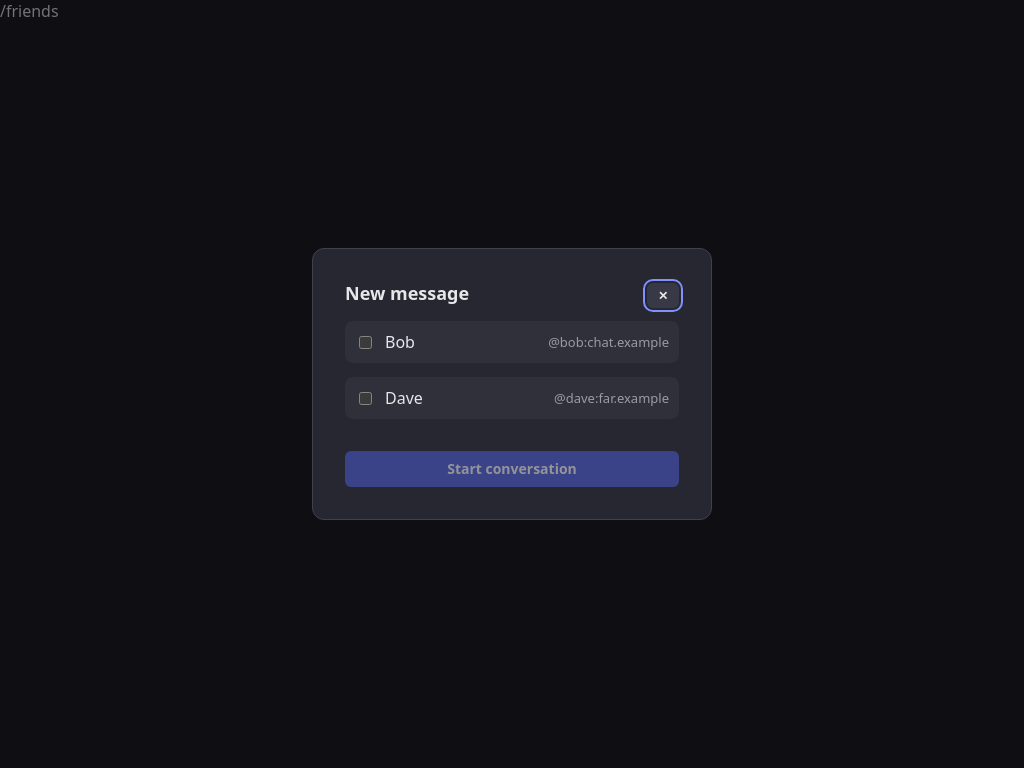
Test case: NewConversationModal on a private server › says plainly when someone added does not accept conversations from you
Click the checkbox labelled "Bob @bob:chat.example": (366, 342) x1=359 y1=336 x2=372 y2=349
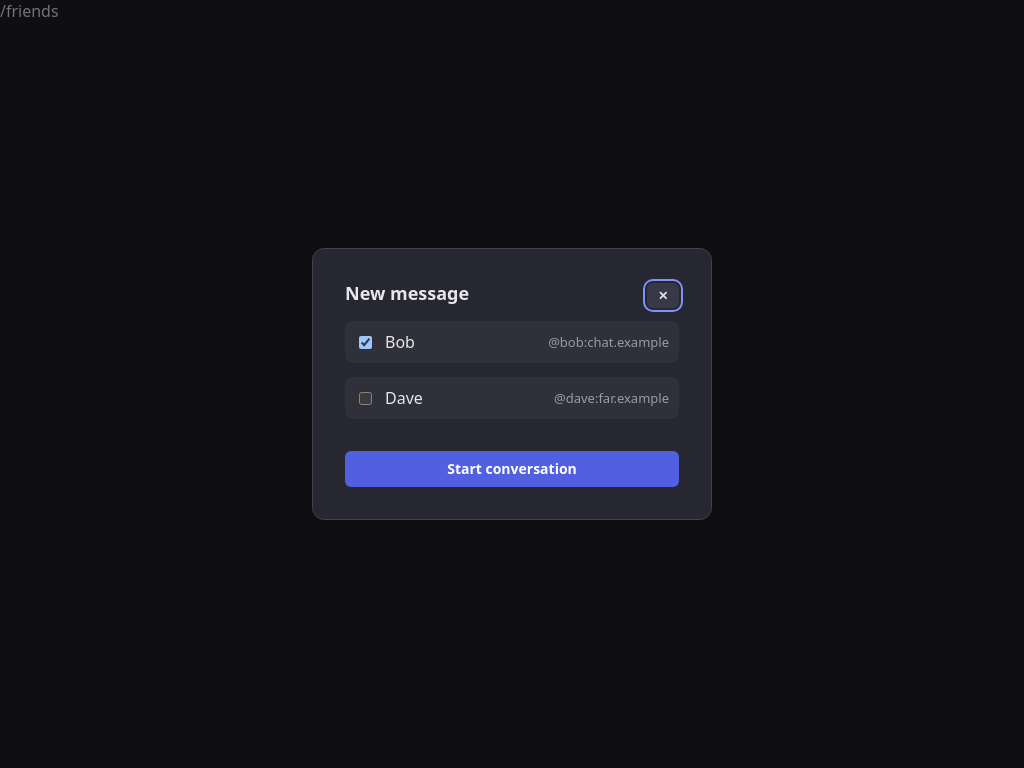
Click the button "Start conversation": (512, 469) x1=345 y1=451 x2=679 y2=487
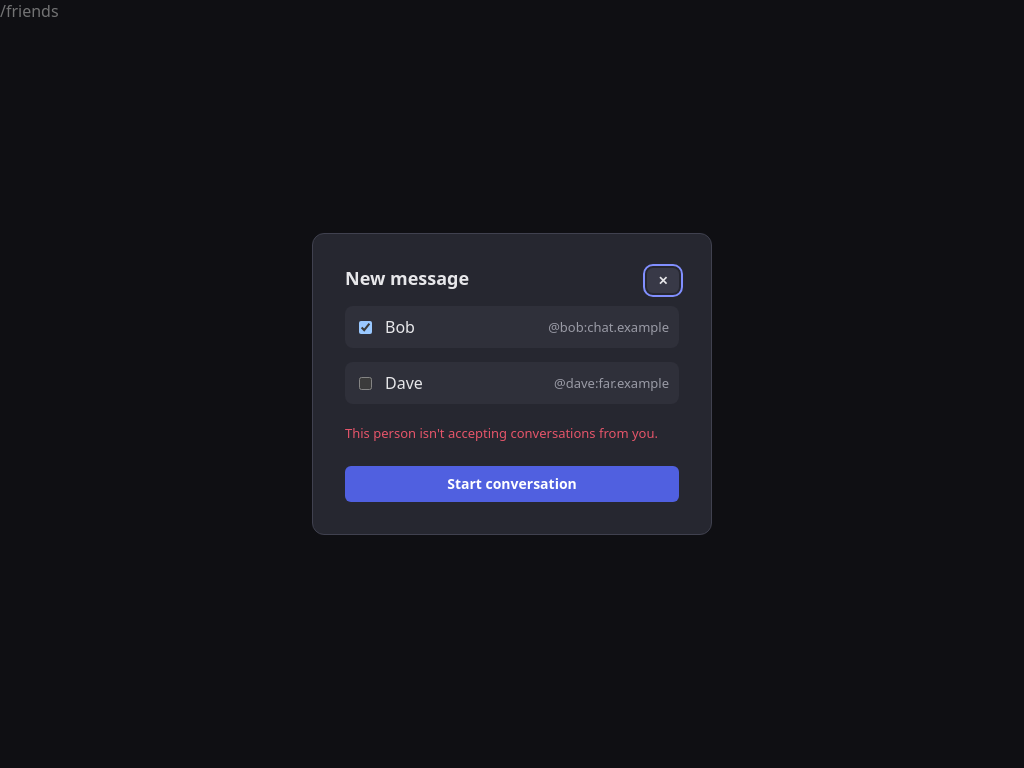
Now the text "This person isn't accepting conversations from you." is shown, box x1=345 y1=424 x2=679 y2=442
